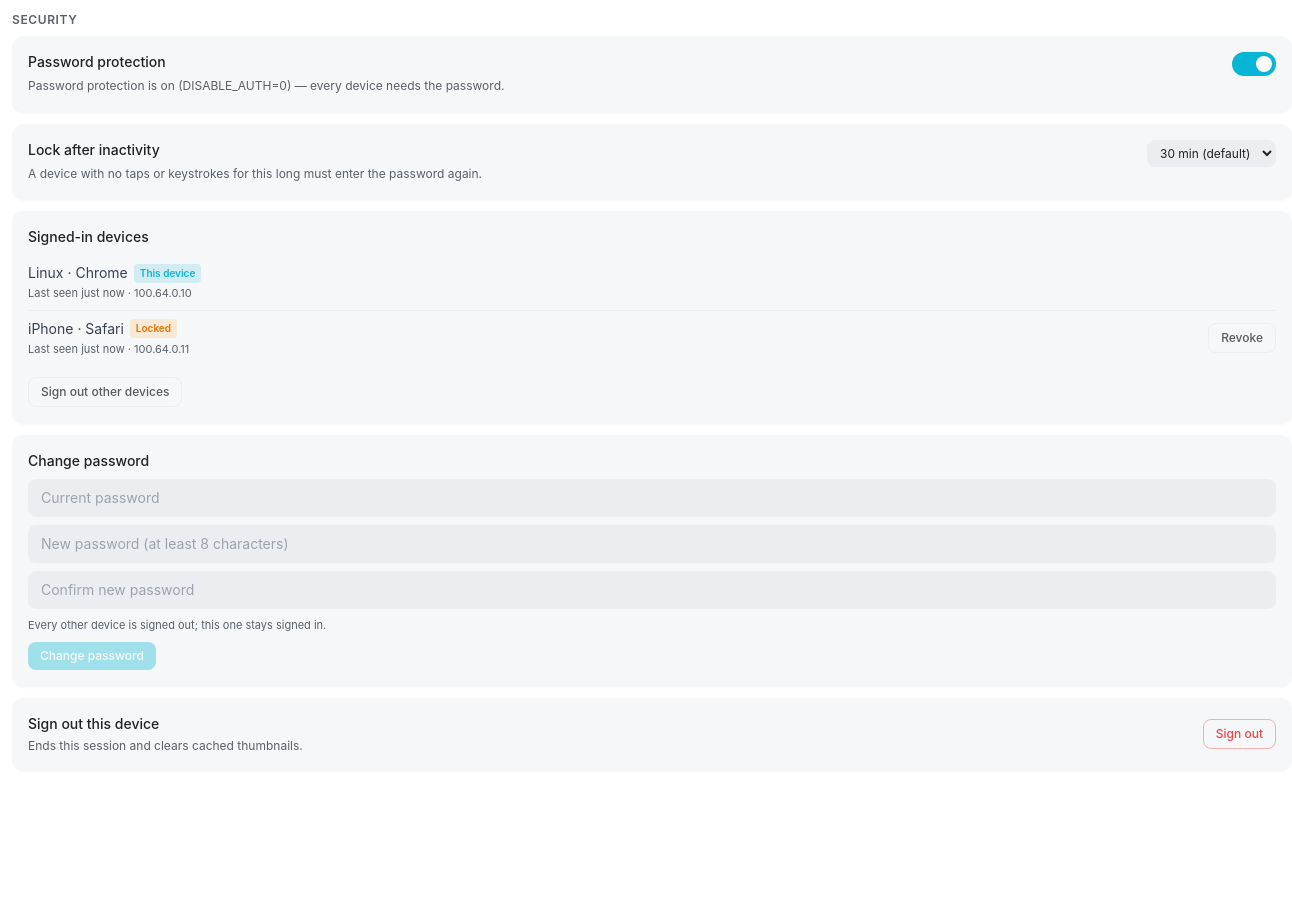
Test case: SecuritySettings › Revoke signs that device out and refreshes the list
Click the button "Revoke". click: click(1242, 338)
box: [1208, 323, 1276, 353]
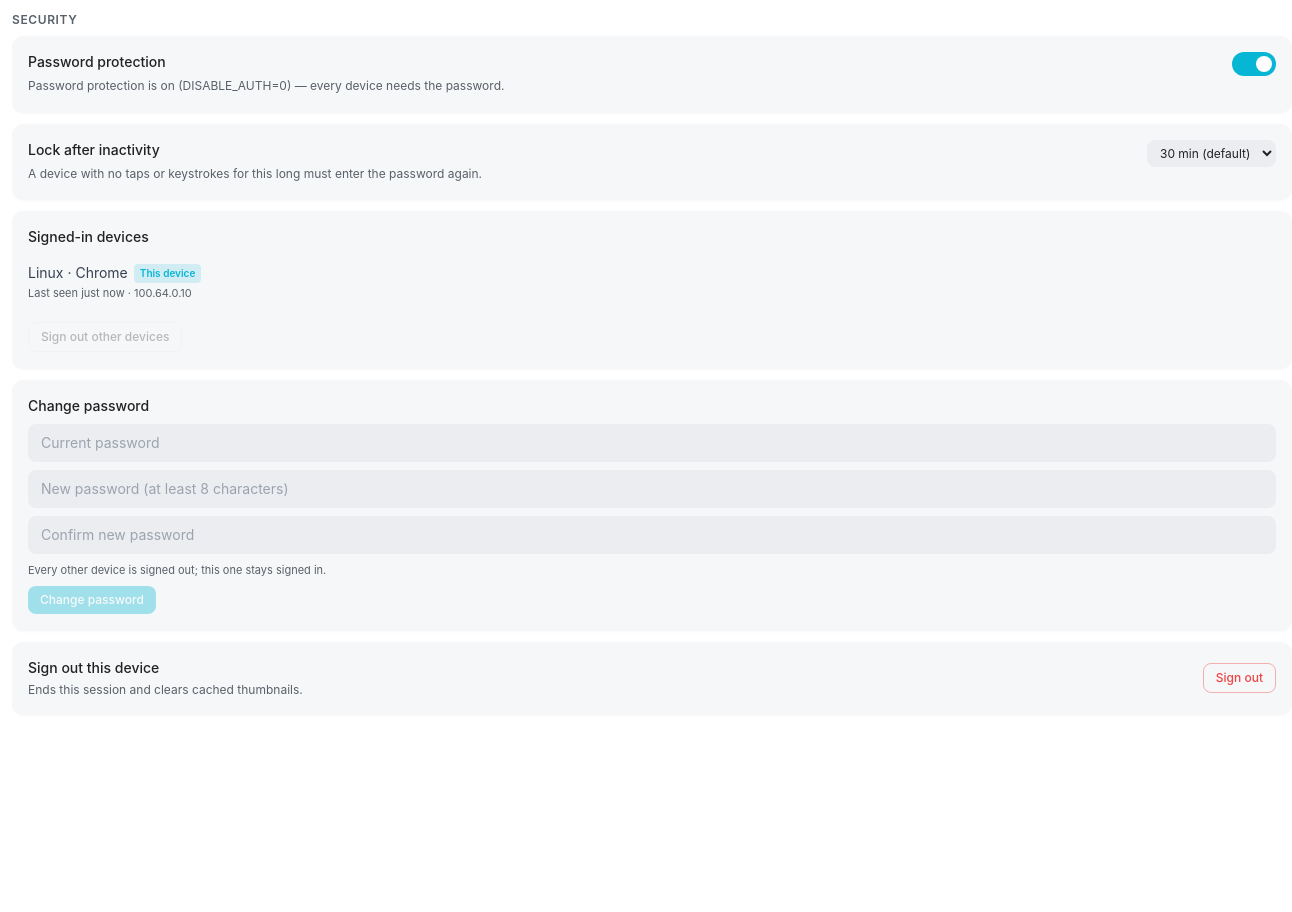
Result: the number of list items is 1 at [28, 264, 201, 300]
